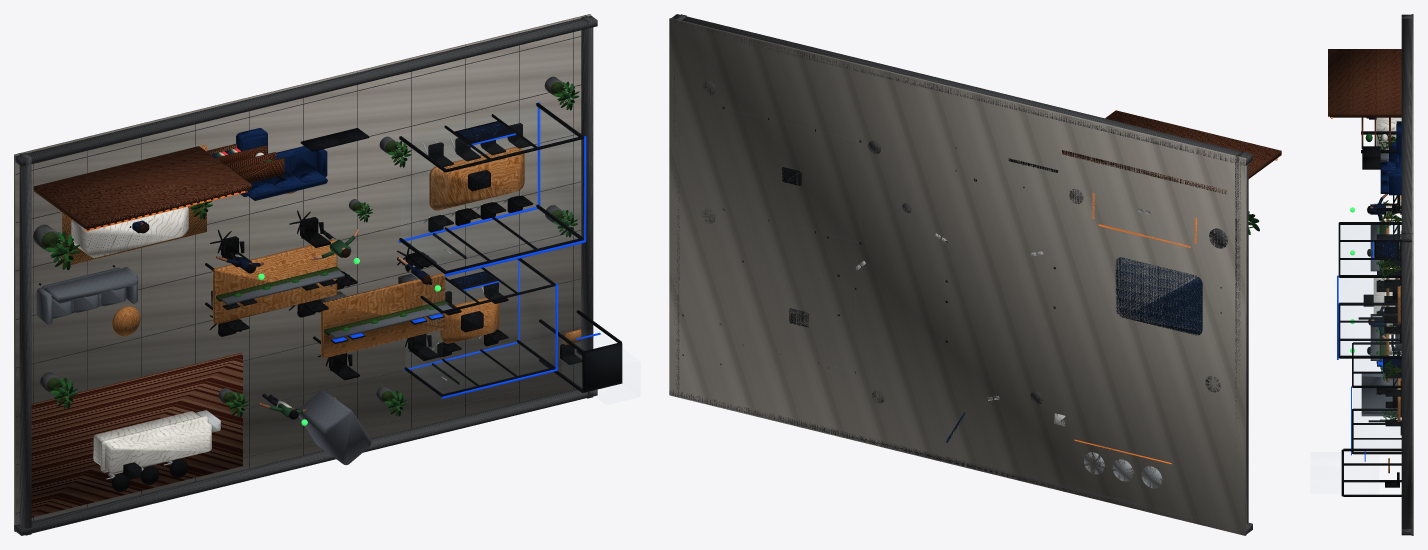
File: SCENE_VERTICAL_SLICE_HERO_V3_001.glb
3 views of the same model, side by side, from view 1: azimuth 30°, elevation 25°; view 2: azimuth 150°, elevation 25°; view 3: azimuth 270°, elevation 25° (orthographic). The views are drawn at different scales.
Visible parts, largest first — view 1: main_concrete_floor_000, pantry_wood_floor_001, RECEPTION_BACKWALL_WOOD_SLAT_HERO_001_base_wall_022, floor_edge_1087, floor_edge_1086, DESK_BENCH_4P_HERO_001_bench_top_hero_387, DESK_BENCH_4P_HERO_001_bench_top_hero_246, floor_edge_1084, PANTRY_COUNTER_MARBLE_HERO_001_counter_body_678, floor_edge_1085, MEETING_TABLE_8P_HERO_001_meeting_table_top_550, RECEPTION_DESK_MARBLE_HERO_001_curved_marble_body_049 (+9 smaller); view 2: main_concrete_floor_000, RUG_BLUE_PATTERN_001_rug_206, floor_edge_1087, RECEPTION_BACKWALL_WOOD_SLAT_HERO_001_base_wall_022, floor_edge_1086, floor_edge_1084; view 3: RECEPTION_BACKWALL_WOOD_SLAT_HERO_001_base_wall_022, floor_edge_1085, floor_edge_1087, main_concrete_floor_000, FOCUS_POD_001_pod_shell_716, RECEPTION_DESK_MARBLE_HERO_001_curved_marble_body_049, MEETING_TV_WALL_001_screen_image_586, PANTRY_COUNTER_MARBLE_HERO_001_counter_body_678, SOFA_SECTIONAL_BLUE_HERO_001_sofa_arm_229, DESK_BENCH_4P_HERO_001_center_privacy_panel_388, DESK_BENCH_4P_HERO_001_center_privacy_panel_247, WALL_ART_FRAME_001_frame_999 (+20 smaller).
Part boxes in pixels (bbox=[...]): main_concrete_floor_000: bbox=[14, 14, 591, 531]; pantry_wood_floor_001: bbox=[31, 352, 242, 517]; RECEPTION_BACKWALL_WOOD_SLAT_HERO_001_base_wall_022: bbox=[33, 146, 251, 229]; floor_edge_1087: bbox=[14, 15, 597, 166]; floor_edge_1086: bbox=[14, 387, 597, 535]; DESK_BENCH_4P_HERO_001_bench_top_hero_387: bbox=[321, 273, 445, 358]; DESK_BENCH_4P_HERO_001_bench_top_hero_246: bbox=[213, 239, 337, 324]; floor_edge_1084: bbox=[18, 153, 31, 535]; PANTRY_COUNTER_MARBLE_HERO_001_counter_body_678: bbox=[93, 411, 211, 474]; floor_edge_1085: bbox=[581, 15, 593, 398]; MEETING_TABLE_8P_HERO_001_meeting_table_top_550: bbox=[429, 147, 524, 210]; RECEPTION_DESK_MARBLE_HERO_001_curved_marble_body_049: bbox=[71, 206, 188, 257]; main_concrete_floor_000: bbox=[669, 18, 1246, 535]; RUG_BLUE_PATTERN_001_rug_206: bbox=[1115, 257, 1202, 335]; floor_edge_1087: bbox=[669, 14, 1252, 165]; RECEPTION_BACKWALL_WOOD_SLAT_HERO_001_base_wall_022: bbox=[1062, 110, 1281, 193]; floor_edge_1086: bbox=[669, 390, 1252, 534]; floor_edge_1084: bbox=[1235, 151, 1248, 523]; RECEPTION_BACKWALL_WOOD_SLAT_HERO_001_base_wall_022: bbox=[1328, 49, 1401, 116]; floor_edge_1085: bbox=[1401, 233, 1413, 528]; floor_edge_1087: bbox=[1401, 14, 1411, 242]; main_concrete_floor_000: bbox=[1411, 14, 1413, 535]; FOCUS_POD_001_pod_shell_716: bbox=[1361, 373, 1401, 416]; RECEPTION_DESK_MARBLE_HERO_001_curved_marble_body_049: bbox=[1376, 117, 1401, 149]; MEETING_TV_WALL_001_screen_image_586: bbox=[1376, 241, 1396, 257]; PANTRY_COUNTER_MARBLE_HERO_001_counter_body_678: bbox=[1373, 278, 1395, 313]; SOFA_SECTIONAL_BLUE_HERO_001_sofa_arm_229: bbox=[1389, 173, 1401, 195]; DESK_BENCH_4P_HERO_001_center_privacy_panel_388: bbox=[1370, 314, 1379, 360]; DESK_BENCH_4P_HERO_001_center_privacy_panel_247: bbox=[1370, 225, 1379, 271]; WALL_ART_FRAME_001_frame_999: bbox=[1362, 156, 1380, 169].
Bounding box in the file's own units: 16 × 10 × 3.13.
40 materials, 40 textured.
